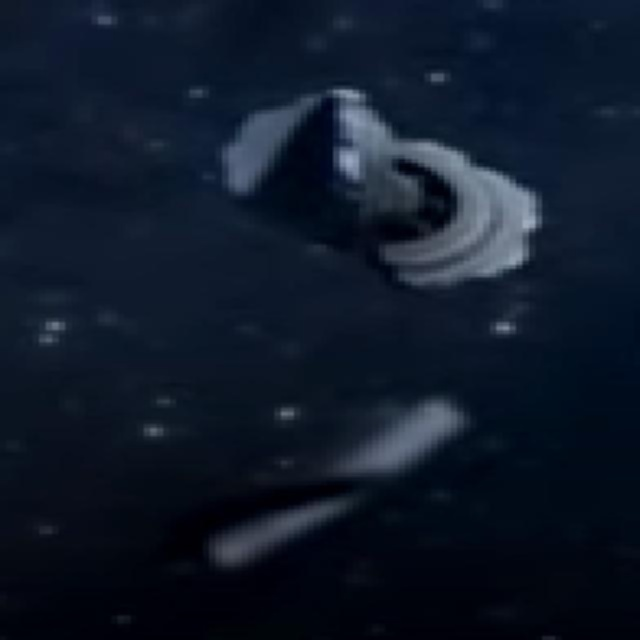medium_debris: (221, 79, 555, 284), (199, 402, 465, 566)
